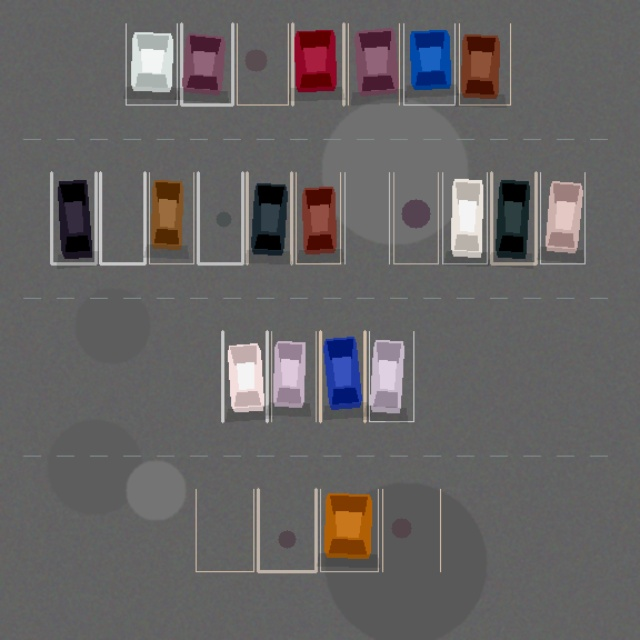space-empty: (258, 489, 316, 571), (382, 489, 440, 571), (196, 489, 253, 571), (237, 23, 288, 104), (344, 172, 389, 263), (393, 172, 438, 263), (100, 172, 144, 263), (198, 172, 242, 263)
space-occupied: (320, 489, 378, 571), (126, 23, 177, 104), (181, 23, 232, 104), (292, 23, 343, 104), (348, 23, 399, 104), (403, 23, 454, 104), (459, 23, 510, 104), (51, 172, 96, 263), (442, 172, 487, 263), (491, 172, 536, 263), (222, 331, 267, 421), (271, 331, 316, 421), (149, 172, 193, 263), (247, 172, 291, 263), (296, 172, 340, 263), (540, 172, 584, 263), (320, 331, 364, 421), (369, 331, 413, 421)
